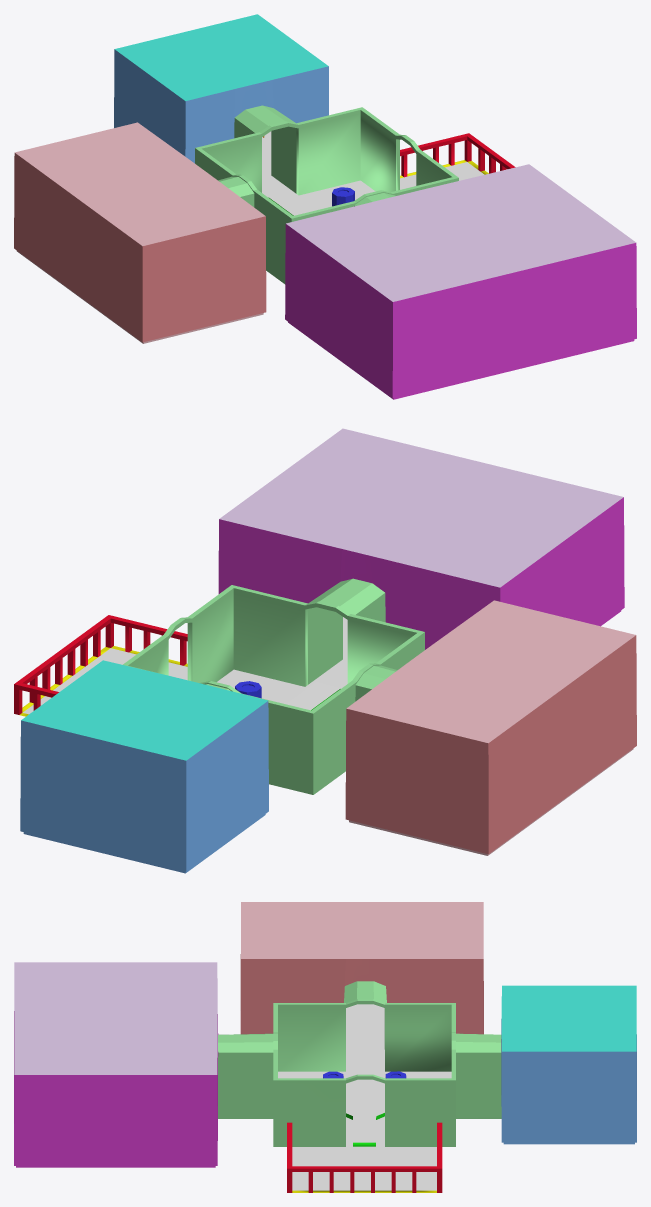
Rendered from VRProject_ver2.fbx.
3 views of the same model, one above another, from view 1: azimuth 30°, elevation 25°; view 2: azimuth 150°, elevation 25°; view 3: azimuth 270°, elevation 25° (orthographic). The views are drawn at different scales.
Parts seen in each view (by area): view 1: Whitebox_VR.002, Whitebox_Flooring; view 2: Whitebox_VR.002, Whitebox_Flooring; view 3: Whitebox_VR.002, Whitebox_Flooring.
Boxes of the visible parts, bbox=[...] form: Whitebox_VR.002: bbox=[14, 14, 636, 399]; Whitebox_Flooring: bbox=[262, 131, 484, 215]; Whitebox_VR.002: bbox=[14, 428, 636, 873]; Whitebox_Flooring: bbox=[22, 617, 347, 714]; Whitebox_VR.002: bbox=[14, 902, 636, 1192]; Whitebox_Flooring: bbox=[278, 1004, 451, 1190].
Bounding box in the file's own units: 4275 × 934 × 5628.
